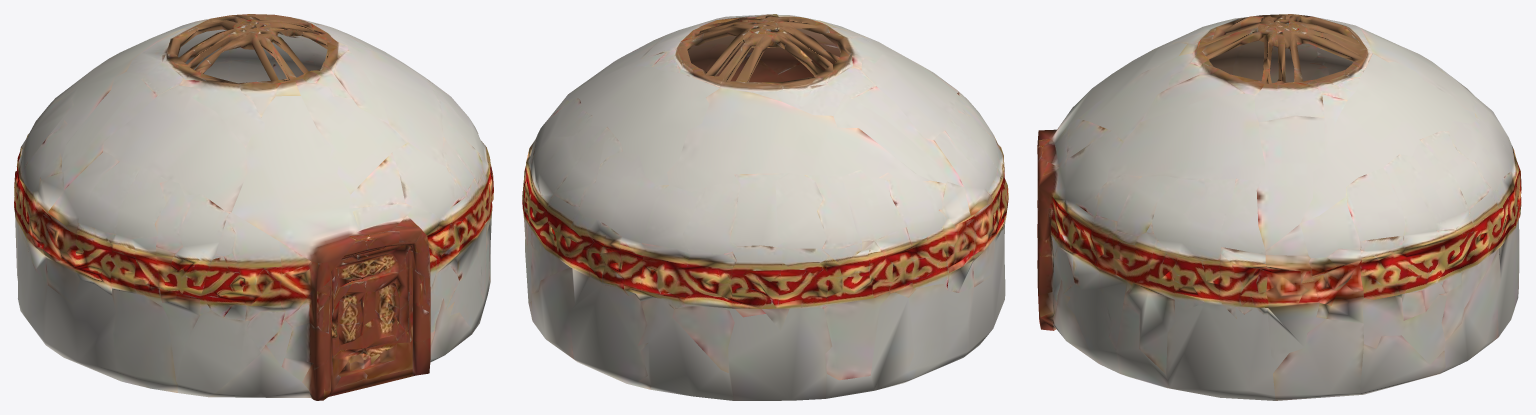
File: yurt.glb
3 renders of one model, left to right at view 1: azimuth 30°, elevation 25°; view 2: azimuth 150°, elevation 25°; view 3: azimuth 270°, elevation 25°, orthographic.
Bounding box in the file's own units: 1.9 × 1.2 × 1.9.
1 material, 1 textured.
